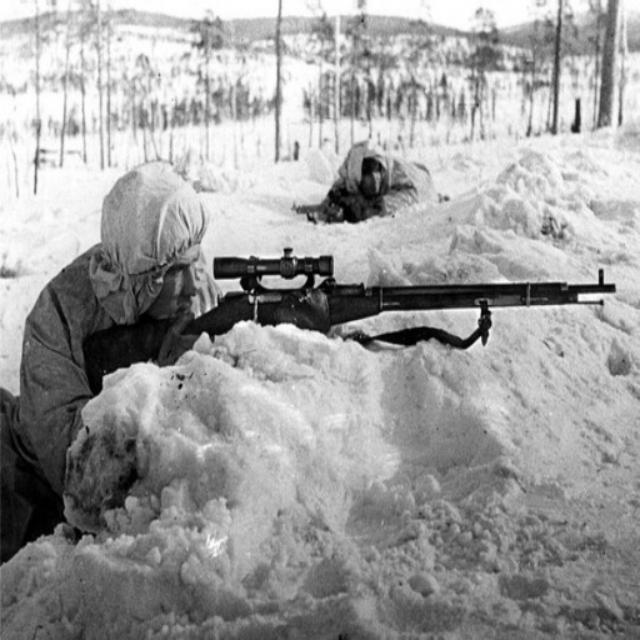other: (25, 172, 218, 494), (316, 143, 428, 221)
